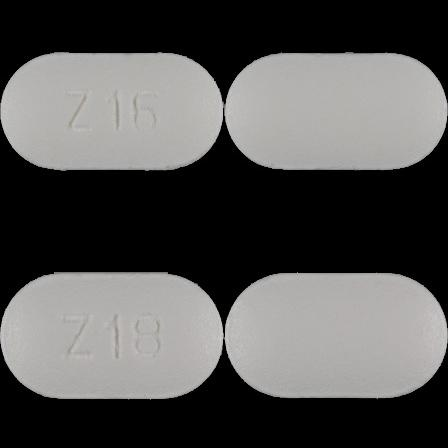63187-071: (0, 0, 224, 224)
